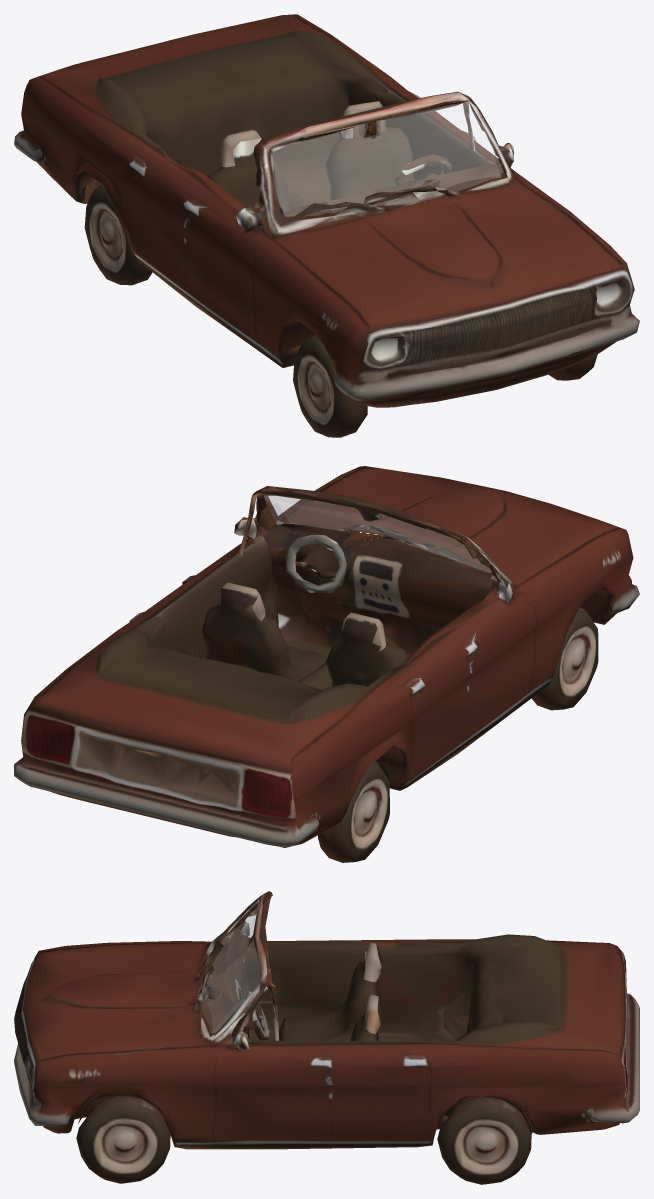
The model's file is car.fbx.
3 views of the same model, one above another, from view 1: azimuth 30°, elevation 25°; view 2: azimuth 150°, elevation 25°; view 3: azimuth 270°, elevation 25° (orthographic). The views are drawn at different scales.
Parts seen in each view (by area): view 1: car, car.001, car.002; view 2: car, car.002, car.001; view 3: car, car.003, car.004.
Boxes of the visible parts, left/top/right/bottom form: car: left=14, top=14, right=639, bottom=407; car.001: left=293, top=334, right=367, bottom=437; car.002: left=84, top=185, right=152, bottom=285; car: left=14, top=466, right=639, bottom=847; car.002: left=318, top=761, right=389, bottom=862; car.001: left=531, top=608, right=598, bottom=710; car: left=14, top=891, right=639, bottom=1149; car.003: left=437, top=1097, right=531, bottom=1184; car.004: left=76, top=1096, right=170, bottom=1183.
Bounding box in the file's own units: 93.47 × 71.37 × 199.
Materials: 5 (4 with a texture image).
